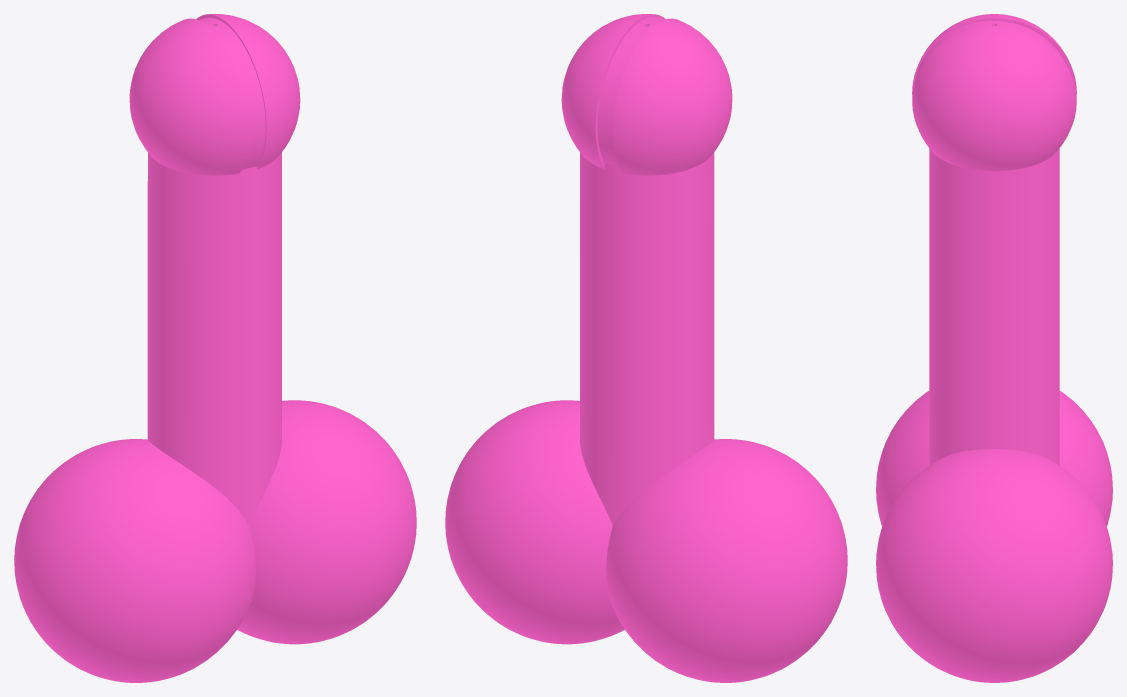
File: kjottgever.glb
3 renders of one model, left to right at view 1: azimuth 30°, elevation 25°; view 2: azimuth 150°, elevation 25°; view 3: azimuth 270°, elevation 25°, orthographic. The views are drawn at different scales.
Parts seen in each view (by area): view 1: Kjøttgevær; view 2: Kjøttgevær; view 3: Kjøttgevær.
Part boxes in pixels (left/top/right/bottom): Kjøttgevær: left=14, top=14, right=416, bottom=682; Kjøttgevær: left=445, top=14, right=847, bottom=682; Kjøttgevær: left=876, top=14, right=1112, bottom=682.
Bounding box in the file's own units: 7 × 11.39 × 4.
